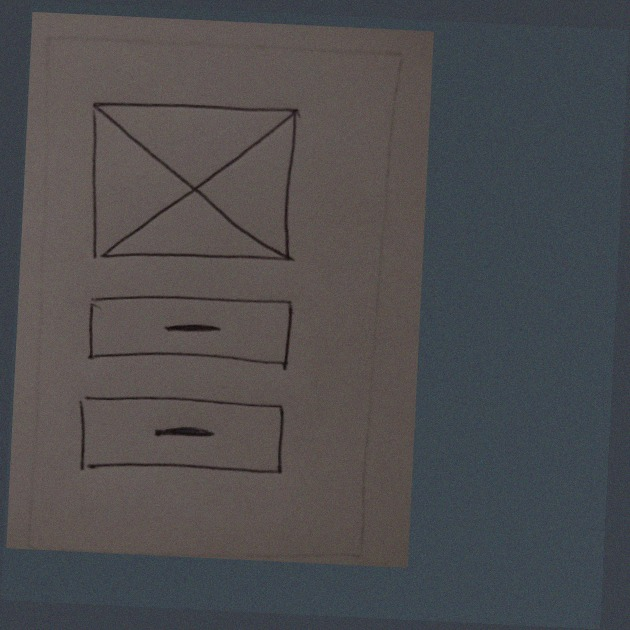button: (68, 386, 293, 488), (78, 287, 295, 374)
image: (80, 90, 309, 275)
